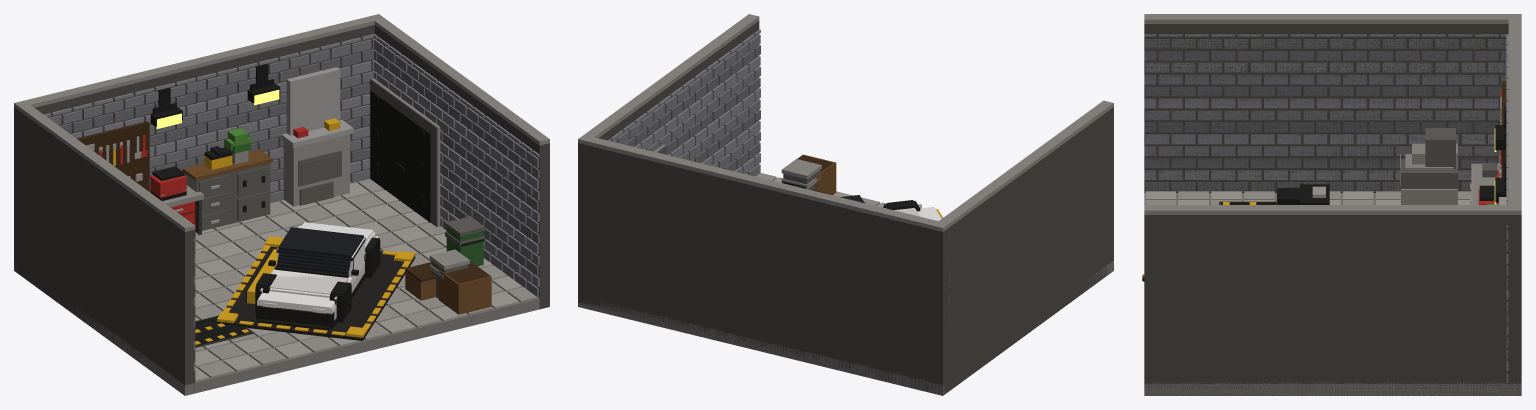
The model's file is garage.glb.
3 views of the same model, side by side, from view 1: azimuth 30°, elevation 25°; view 2: azimuth 150°, elevation 25°; view 3: azimuth 270°, elevation 25° (orthographic). The views are drawn at different scales.
Parts seen in each view (by area): view 1: M_mortar, M_brick_a, M_black, M_floor_b, M_brick_c, M_brick_b, M_floor_a, M_concrete, M_dgray, M_grout, M_steel, M_plat (+10 smaller); view 2: M_mortar, M_concrete, M_brick_a, M_grout, M_brick_c, M_brick_b, M_midgray, M_wood; view 3: M_mortar, M_brick_a, M_brick_c, M_brick_b, M_concrete, M_grout, M_dgray, M_black, M_floor_b, M_floor_a, M_midgray, M_steel (+1 smaller).
Boxes of the visible parts, bbox=[...] form: M_mortar: bbox=[14, 25, 549, 393]; M_brick_a: bbox=[20, 38, 539, 349]; M_black: bbox=[150, 63, 484, 346]; M_floor_b: bbox=[195, 179, 538, 378]; M_brick_c: bbox=[44, 34, 539, 370]; M_brick_b: bbox=[20, 49, 539, 327]; M_floor_a: bbox=[195, 182, 522, 381]; M_concrete: bbox=[14, 14, 549, 231]; M_dgray: bbox=[196, 79, 485, 298]; M_grout: bbox=[14, 182, 549, 395]; M_steel: bbox=[86, 67, 353, 223]; M_plat: bbox=[217, 246, 415, 340]; M_mortar: bbox=[578, 21, 1113, 395]; M_concrete: bbox=[578, 14, 1113, 231]; M_brick_a: bbox=[613, 34, 949, 346]; M_grout: bbox=[578, 178, 1113, 395]; M_brick_c: bbox=[608, 29, 949, 303]; M_brick_b: bbox=[624, 45, 949, 323]; M_midgray: bbox=[781, 159, 821, 189]; M_wood: bbox=[803, 154, 836, 195]; M_mortar: bbox=[1144, 24, 1521, 395]; M_brick_a: bbox=[1144, 39, 1508, 382]; M_brick_c: bbox=[1144, 34, 1508, 370]; M_brick_b: bbox=[1144, 51, 1508, 358]; M_concrete: bbox=[1144, 14, 1521, 214]; M_grout: bbox=[1144, 193, 1521, 395]; M_dgray: bbox=[1401, 128, 1497, 188]; M_black: bbox=[1142, 105, 1506, 281]; M_floor_b: bbox=[1145, 191, 1521, 383]; M_floor_a: bbox=[1145, 191, 1504, 383]; M_midgray: bbox=[1471, 163, 1499, 204]; M_steel: bbox=[1312, 97, 1506, 204].
Bounding box in the file's own units: 10.6 × 4.66 × 8.65.
